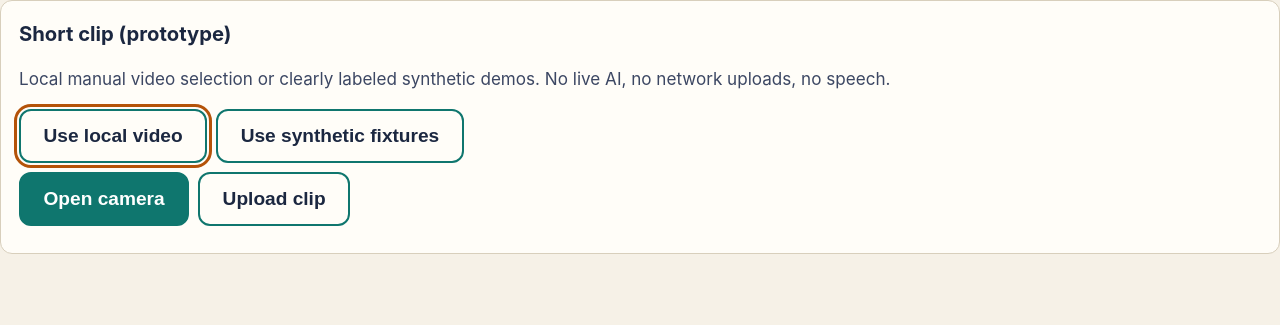
VideoCapturePanel › reports camera permission denial
Click the button "Open camera" at (104, 199), box [19,172,189,226]
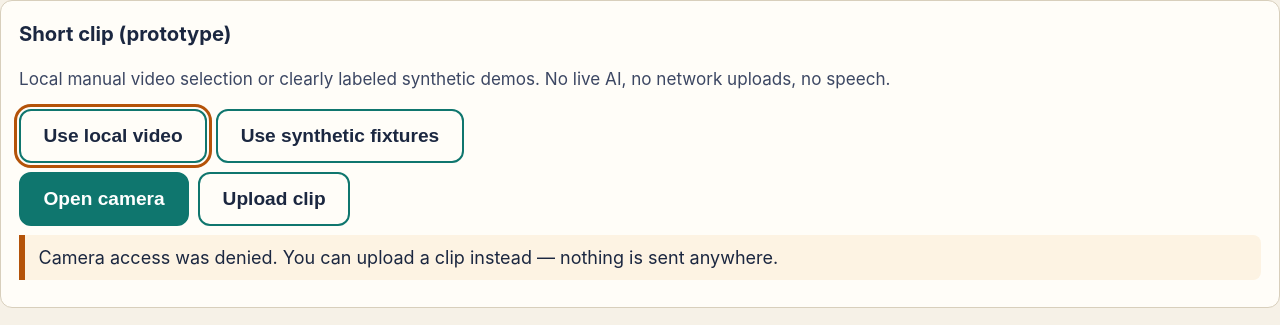
Expected: the message shows "denied", [38,247,778,268]
